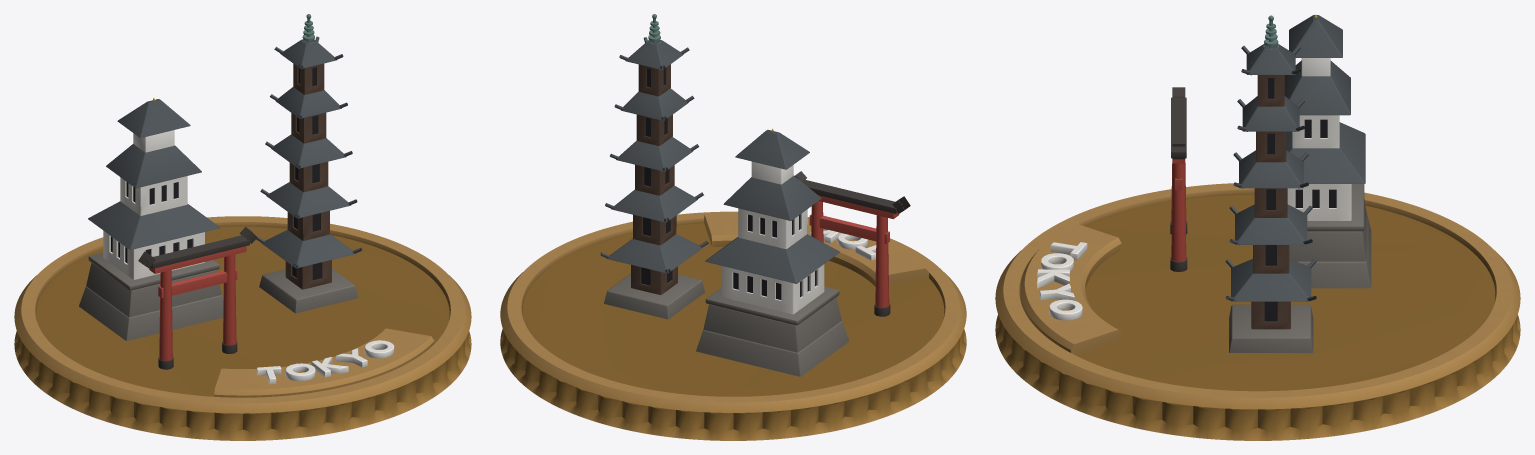
File: city_bundle_tokyo.glb
3 renders of one model, left to right at view 1: azimuth 30°, elevation 25°; view 2: azimuth 150°, elevation 25°; view 3: azimuth 270°, elevation 25°, orthographic. The views are drawn at different scales.
Parts seen in each view (by area): view 1: Plinth_Body, Pagoda_Eaves, Keep_Roofs, Keep_Foundation, Torii_Gate, Plinth_Nameplate, Pagoda_Wood, Keep_Plaster, Pagoda_Base, Plinth_Text_TOKYO; view 2: Plinth_Body, Keep_Foundation, Pagoda_Eaves, Keep_Roofs, Keep_Plaster, Pagoda_Wood, Torii_Gate, Plinth_Nameplate, Pagoda_Base, Plinth_Text_TOKYO; view 3: Plinth_Body, Pagoda_Eaves, Keep_Roofs, Plinth_Nameplate, Keep_Foundation, Pagoda_Wood, Keep_Plaster, Pagoda_Base, Torii_Gate, Plinth_Text_TOKYO.
Boxes of the visible parts, box(x1,y1,x2,y2) form: Plinth_Body: box(14, 216, 471, 440); Pagoda_Eaves: box(256, 36, 361, 268); Keep_Roofs: box(88, 98, 219, 249); Keep_Foundation: box(79, 252, 223, 340); Torii_Gate: box(138, 227, 257, 369); Plinth_Nameplate: box(214, 328, 434, 397); Pagoda_Wood: box(285, 63, 331, 289); Keep_Plaster: box(103, 130, 204, 279); Pagoda_Base: box(259, 268, 358, 313); Plinth_Text_TOKYO: box(256, 340, 394, 384); Plinth_Body: box(500, 211, 966, 440); Keep_Foundation: box(696, 286, 849, 376); Pagoda_Eaves: box(600, 37, 708, 273); Keep_Roofs: box(705, 128, 839, 283); Keep_Plaster: box(721, 161, 824, 314); Pagoda_Wood: box(631, 64, 677, 294); Torii_Gate: box(795, 171, 910, 316); Plinth_Nameplate: box(704, 213, 928, 286); Pagoda_Base: box(604, 273, 704, 319); Plinth_Text_TOKYO: box(809, 228, 876, 260); Plinth_Body: box(995, 183, 1520, 440); Pagoda_Eaves: box(1225, 44, 1316, 301); Keep_Roofs: box(1284, 14, 1365, 183); Plinth_Nameplate: box(1020, 223, 1121, 355); Keep_Foundation: box(1289, 184, 1371, 288); Pagoda_Wood: box(1251, 75, 1290, 329); Keep_Plaster: box(1287, 58, 1351, 220); Pagoda_Base: box(1229, 304, 1313, 352); Torii_Gate: box(1170, 87, 1187, 271); Plinth_Text_TOKYO: box(1037, 242, 1087, 320).
Bounding box in the file's own units: 1.99 × 1.5 × 1.99.
